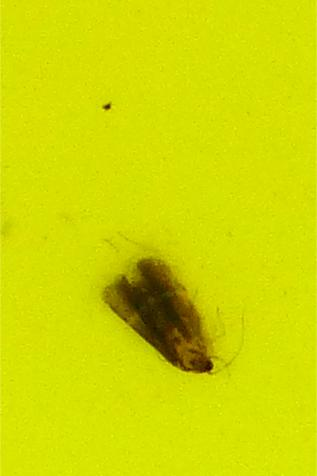Lepidoptera: (100, 255, 217, 376)
